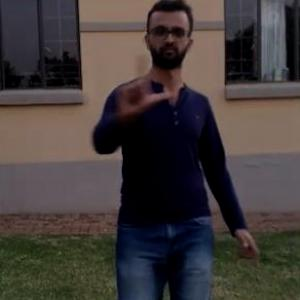land_hand: (107, 50, 179, 122)
